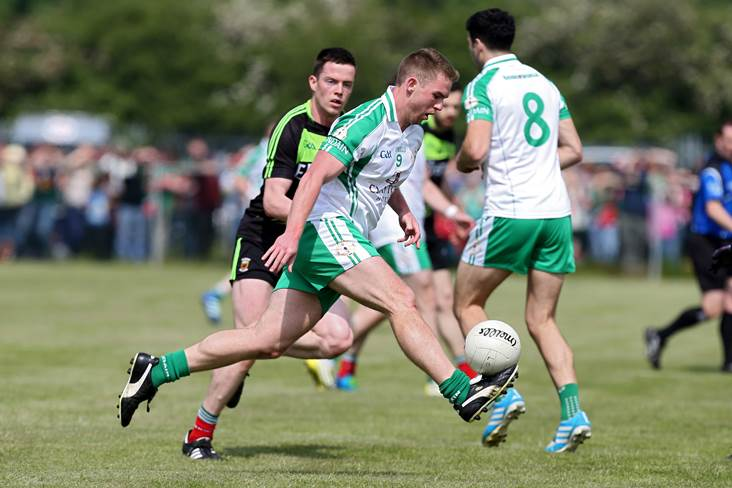ball: (461, 314, 522, 373)
player: (451, 7, 599, 447), (314, 42, 477, 420), (231, 27, 360, 340)
